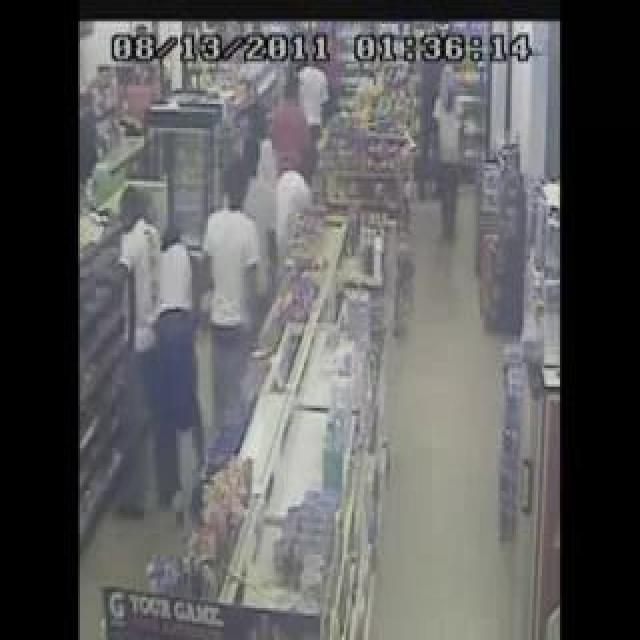thief: (118, 186, 259, 286), (262, 111, 300, 205), (300, 64, 347, 115), (436, 70, 466, 148)
